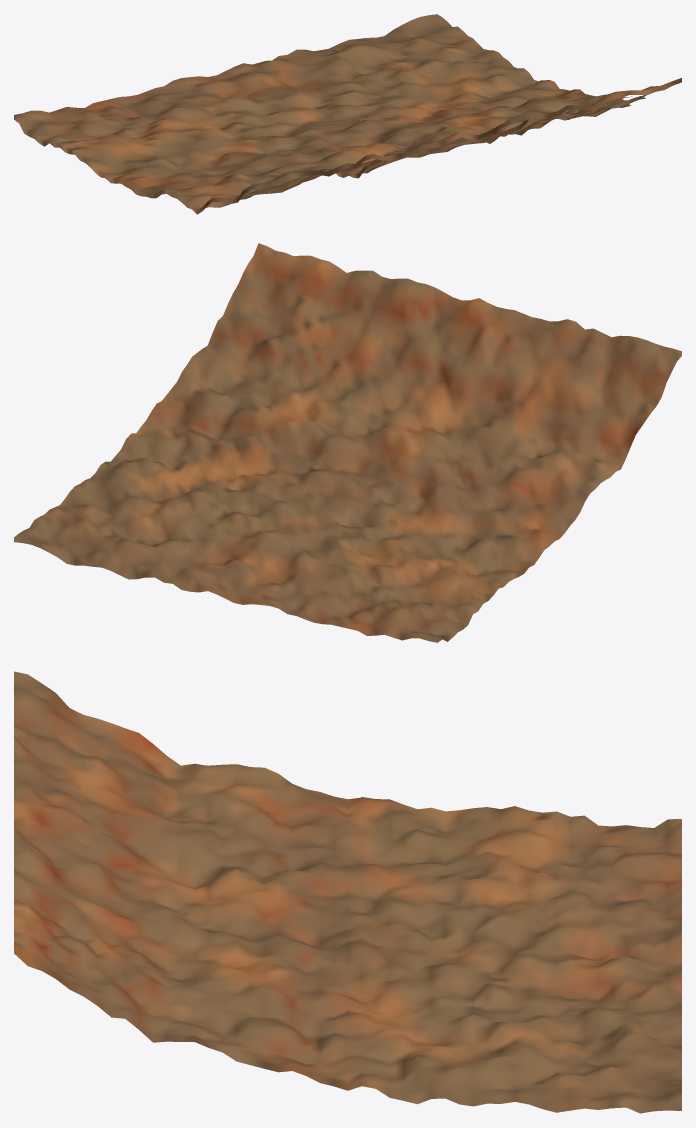
Rendered from terrain-150.glb.
3 views of the same model, one above another, from view 1: azimuth 30°, elevation 25°; view 2: azimuth 150°, elevation 25°; view 3: azimuth 270°, elevation 25° (orthographic). The views are drawn at different scales.
Parts seen in each view (by area): view 1: terrain-150; view 2: terrain-150; view 3: terrain-150.
Part boxes in pixels (<box>): terrain-150: <box>14,14,681,214</box>; terrain-150: <box>14,243,681,642</box>; terrain-150: <box>14,671,681,1113</box>.
Bounding box in the file's own units: 384 × 113 × 384.
